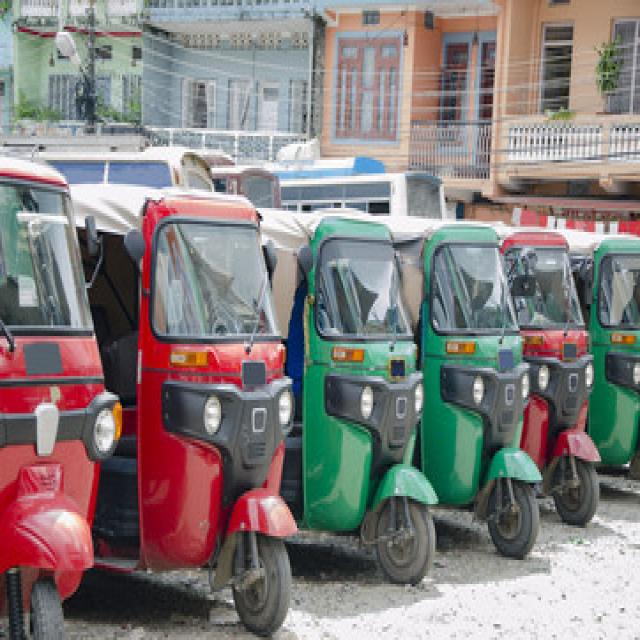three wheeler: (72, 184, 295, 635), (262, 211, 435, 581), (0, 157, 118, 640), (391, 219, 539, 555), (500, 229, 598, 525), (589, 237, 638, 467)
